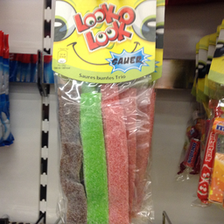candy: (52, 1, 159, 223)
